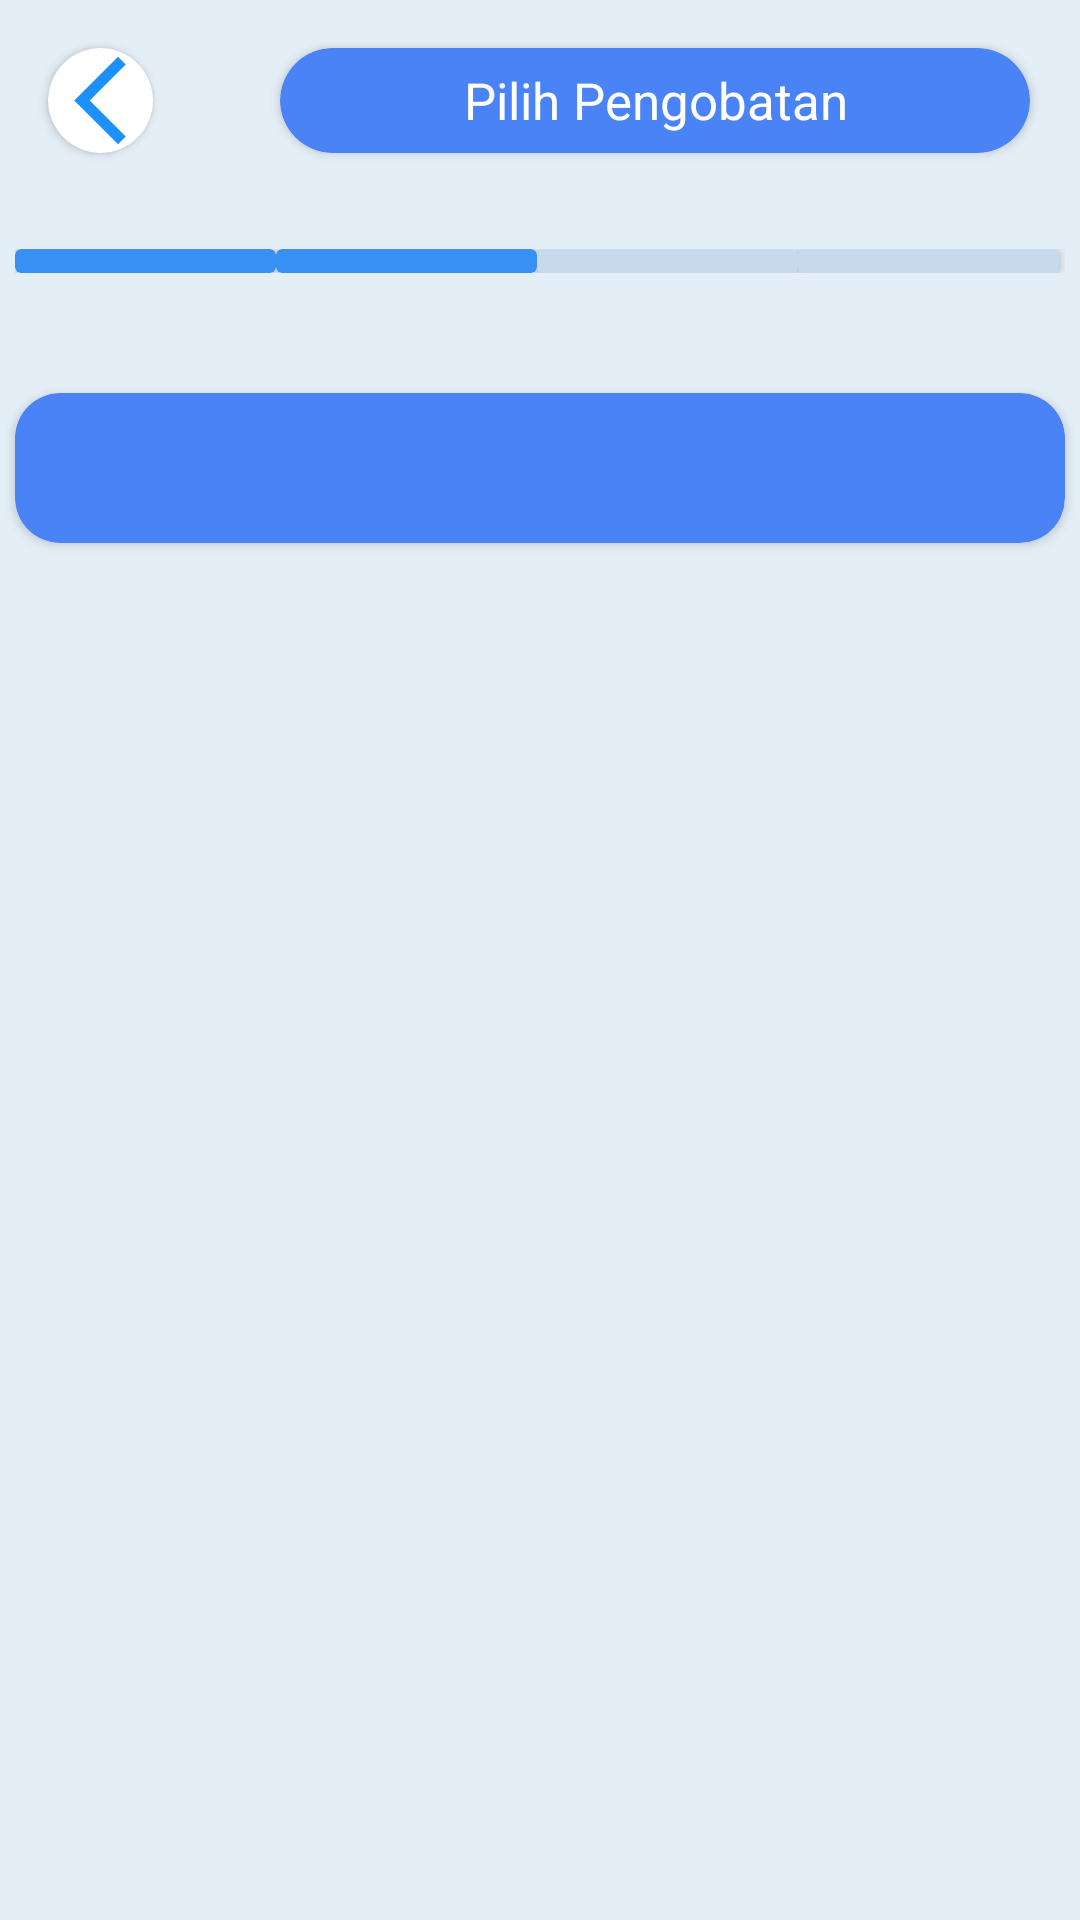

Icons on this 1080×1920 Android screen, each with the point to tap as [x,y]:
back: [100,100]
